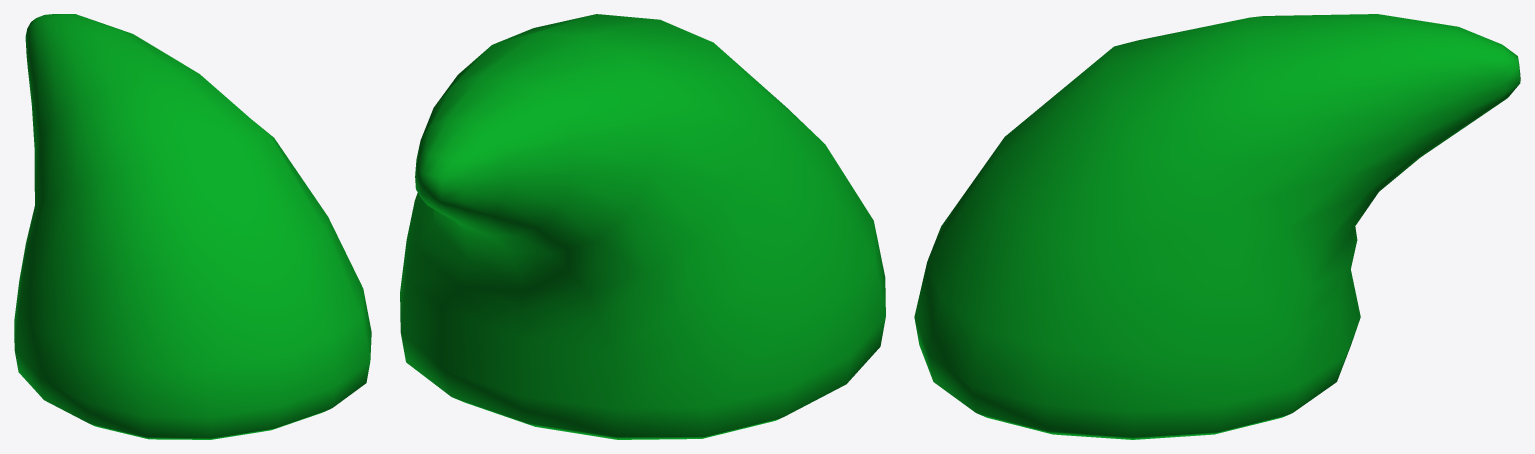
File: LinkHat.fbx
3 views of the same model, side by side, from view 1: azimuth 30°, elevation 25°; view 2: azimuth 150°, elevation 25°; view 3: azimuth 270°, elevation 25° (orthographic). The views are drawn at different scales.
Visible parts, largest first — view 1: LinkHat2; view 2: LinkHat2; view 3: LinkHat2.
Part boxes in pixels (x1=…): LinkHat2: x1=14, y1=14, x2=371, y2=439; LinkHat2: x1=400, y1=14, x2=885, y2=439; LinkHat2: x1=914, y1=14, x2=1520, y2=439.
Size of the model in its own units: 6.2 by 5.19 by 8.58.
